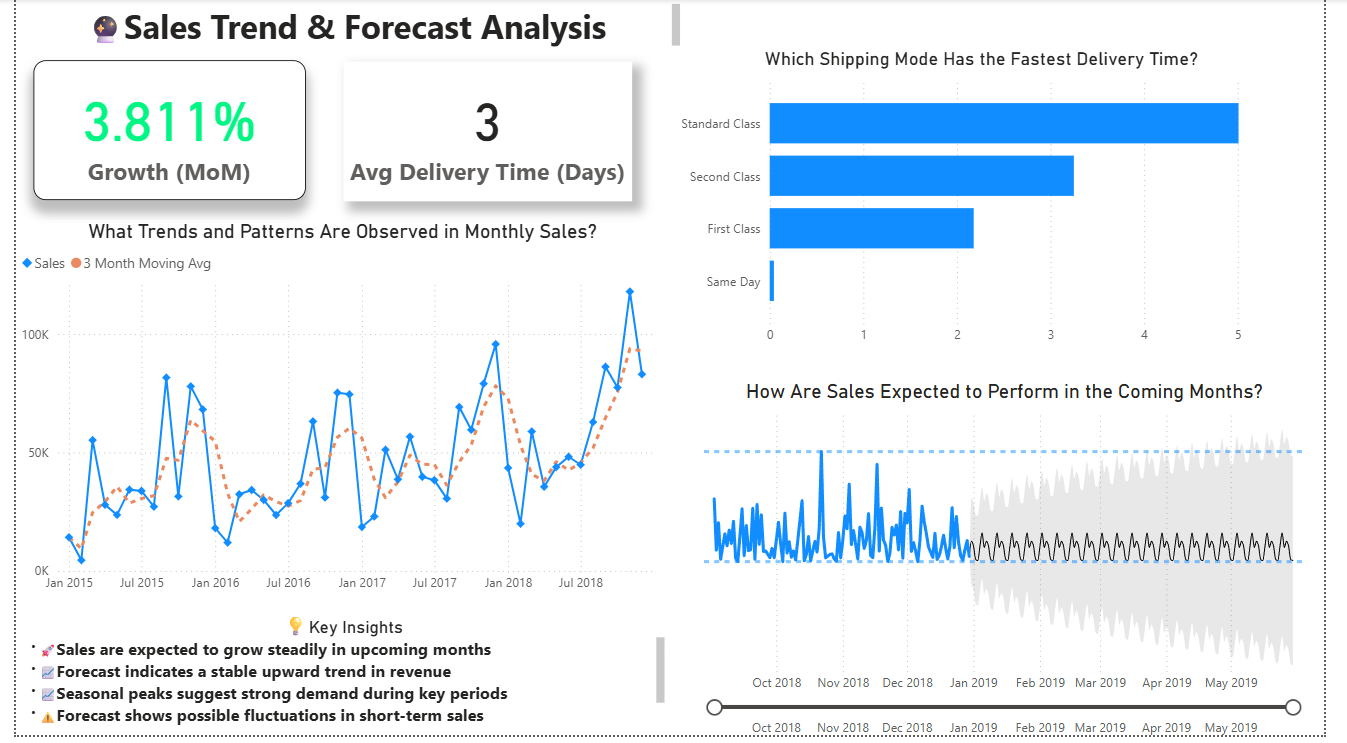

What the dashboard file says about the page in this screenshot:
{"tool":"powerbi","page":{"name":"Sales Forecasting & Trends","canvas":[1280,720],"ordinal":2},"visuals":[{"type":"lineChart","title":"What Trends and Patterns Are Observed in Monthly Sales?","fields":{"Y":["Sum(vw_Monthly_Sales.Sales)","vw_Monthly_Sales.$3 Month Moving Avg"],"Category":["vw_Monthly_Sales.Date"]},"box":[0,216.4,639.5,373],"z":0},{"type":"lineChart","title":"How Are Sales Expected to Perform in the Coming Months?","fields":{"Y":["Sum(train.Sales)"],"Category":["train.Order_Date"]},"box":[654.2,373,626.1,347.3],"z":1000},{"type":"card","fields":{"Values":["vw_Monthly_Sales.Sales Growth %"]},"box":[17.1,59.9,266.6,137],"z":2000},{"type":"card","fields":{"Values":["Sum(vw_Shipping.Avg_Shipping_Days)"]},"box":[320.4,61.1,282.5,137],"z":3000},{"type":"textbox","box":[0,0,654.2,51.4],"z":4000},{"type":"clusteredBarChart","title":"Which Shipping Mode Has the Fastest Delivery Time?","fields":{"Category":["train.Ship_Mode"],"Y":["train.Avg Shipping Days"]},"box":[639.5,48,610.6,299.1],"z":5000},{"type":"textbox","title":"💡Key Insights","box":[0,600.4,639.5,119.8],"z":6000}]}

Visuals, with their boxes in screenshot pixels (x1, y1, x2, y2), scaled from the page's 1280x720 canvas onto the 1347x743 screenshot:
"What Trends and Patterns Are Observed in Monthly Sales?" lineChart: box=[0, 223, 673, 608]
"How Are Sales Expected to Perform in the Coming Months?" lineChart: box=[688, 385, 1346, 742]
card - vw_Monthly_Sales.Sales Growth %: box=[18, 62, 299, 203]
card - Sum(vw_Shipping.Avg_Shipping_Days): box=[337, 63, 634, 204]
textbox: box=[0, 0, 688, 53]
"Which Shipping Mode Has the Fastest Delivery Time?" clusteredBarChart: box=[673, 50, 1316, 358]
"💡Key Insights" textbox: box=[0, 620, 673, 742]
